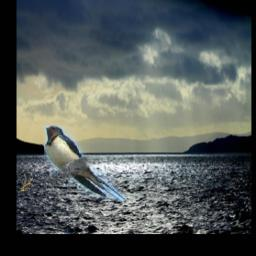Sparrow: (18, 173, 33, 191)
Swallow: (44, 126, 125, 201)
